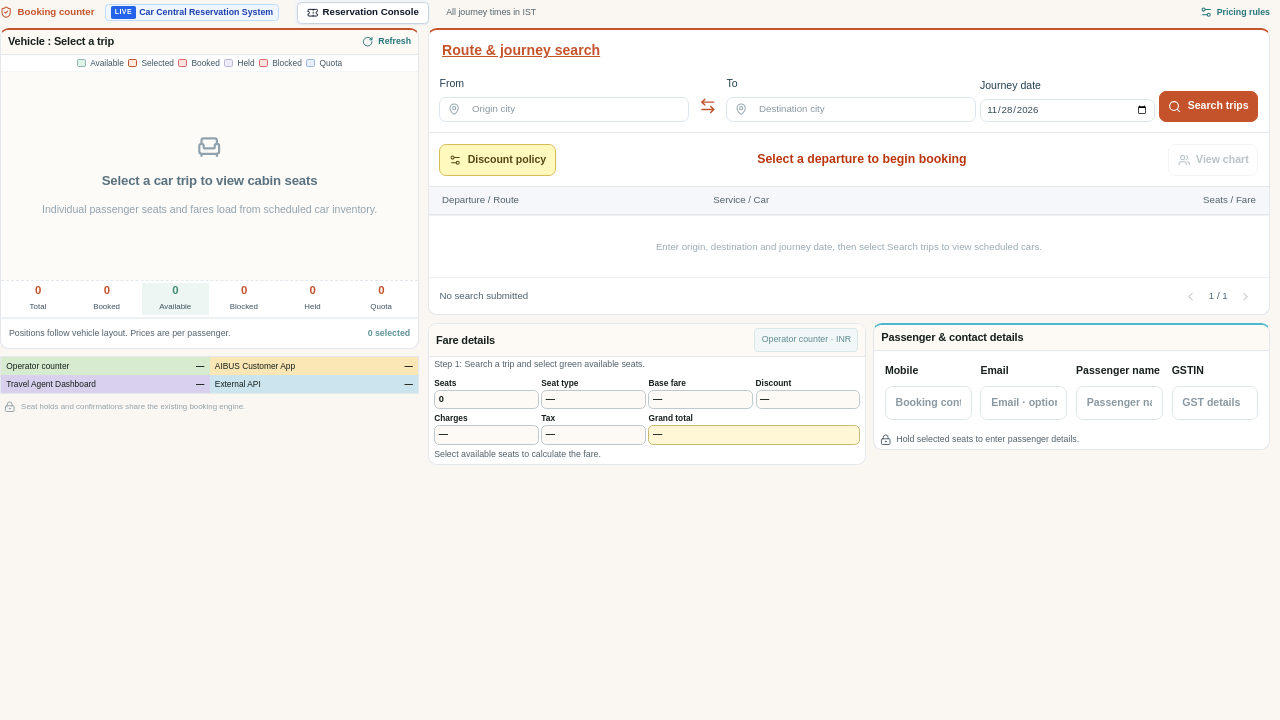
Booking Counter › saves trip amenities with the selected departure version
Type "Pune" into the dropdown named "Counter from". click: (574, 109)
box: x1=467 y1=98 x2=681 y2=121
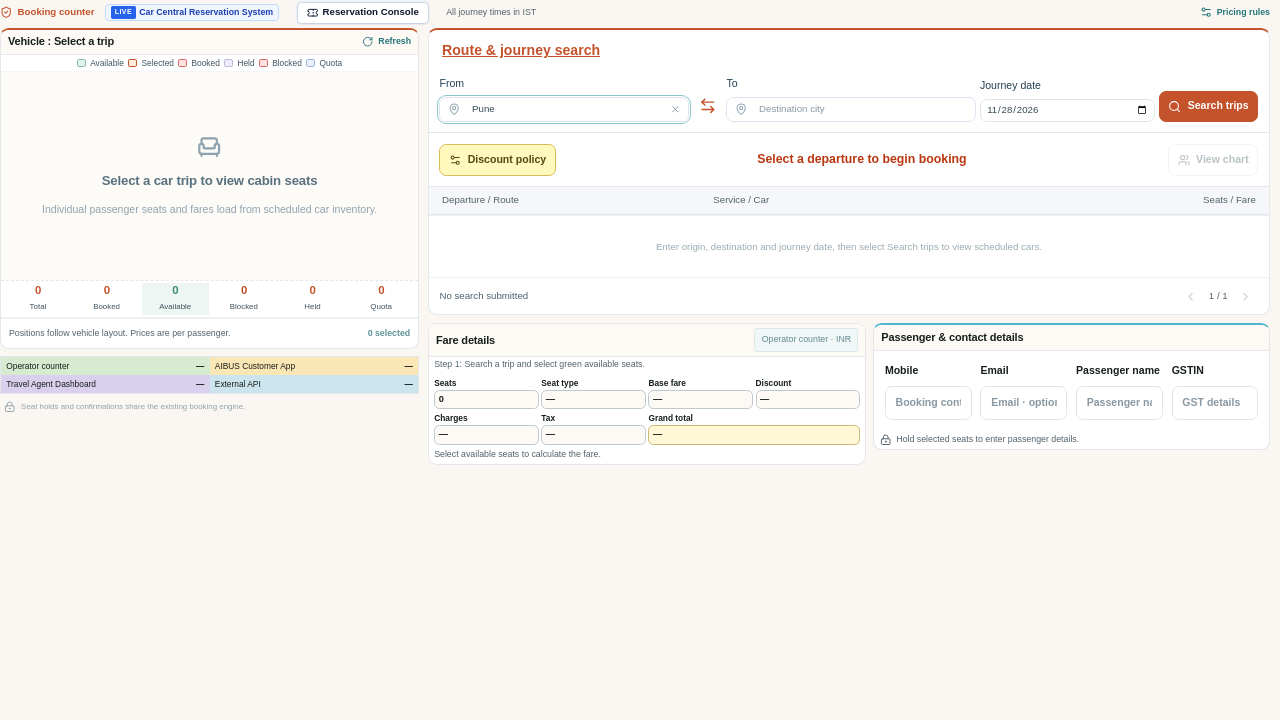
Type "Mumbai" into the dropdown named "Counter to". click: (861, 109)
box: x1=754 y1=98 x2=968 y2=121
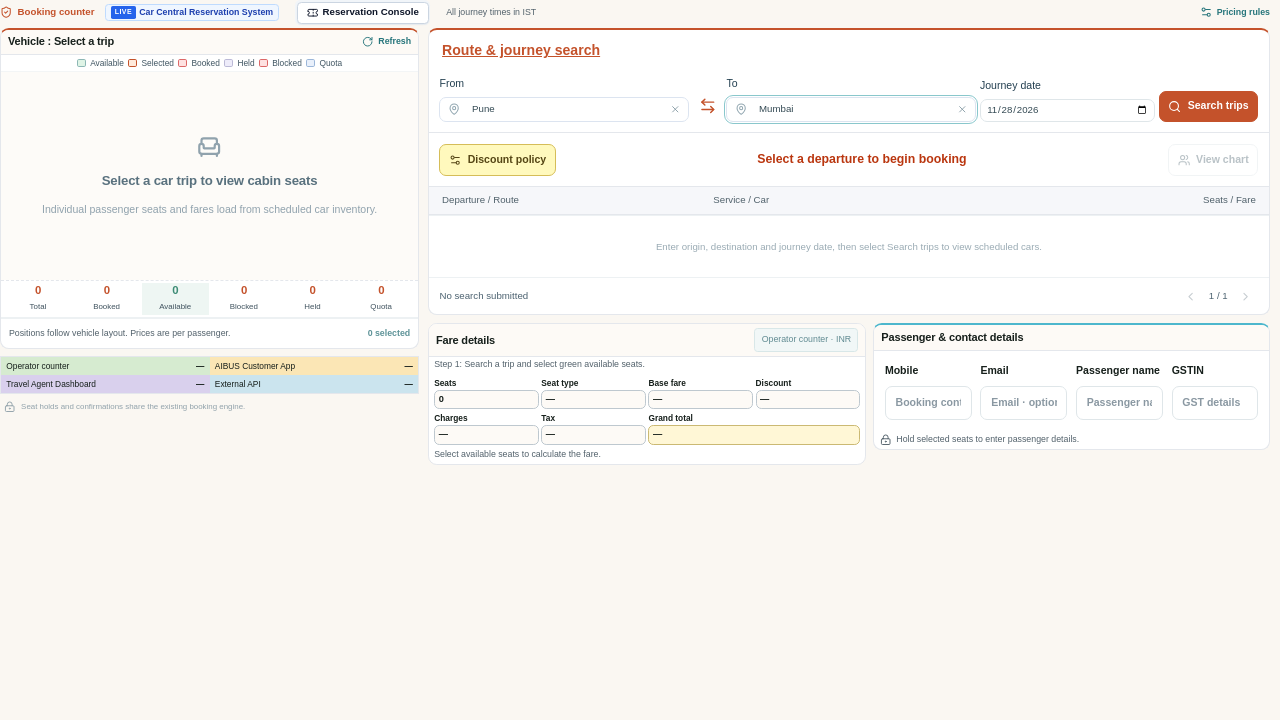
Click the button "Search trips". click: (1208, 106)
box: x1=1158 y1=91 x2=1258 y2=122
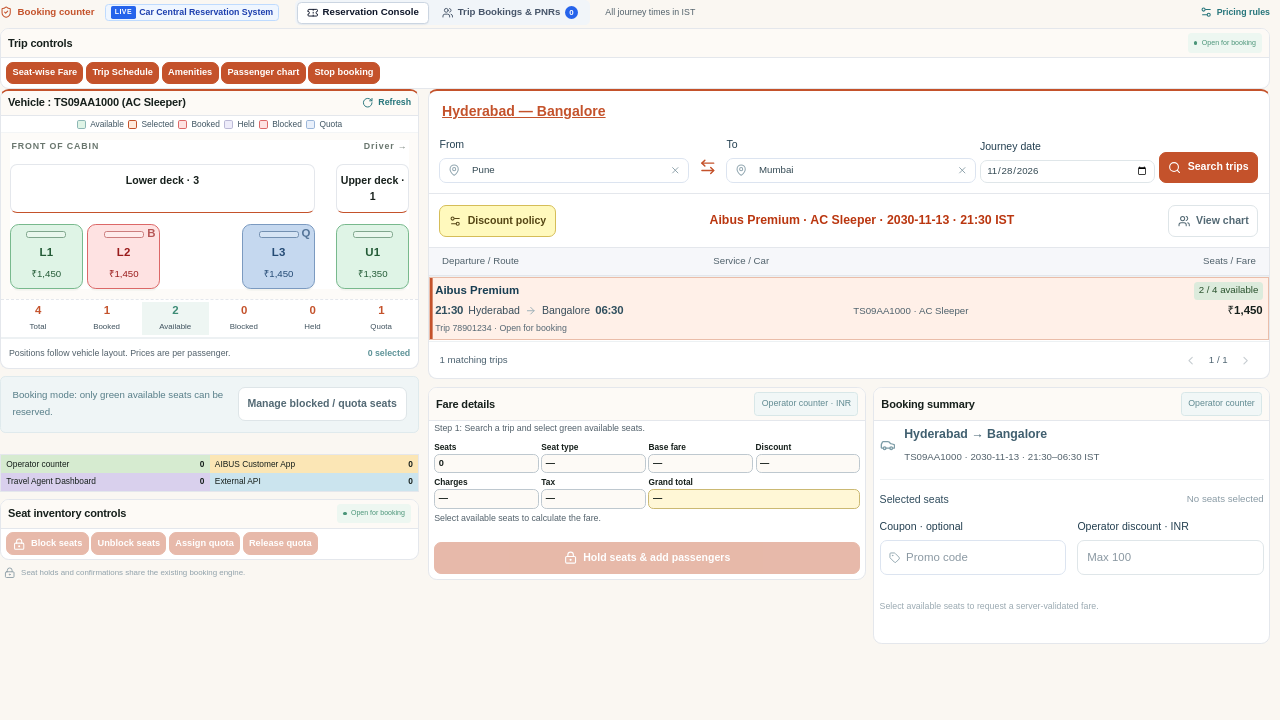
Click the button "Amenities". click: (190, 73)
box: x1=162 y1=62 x2=218 y2=84
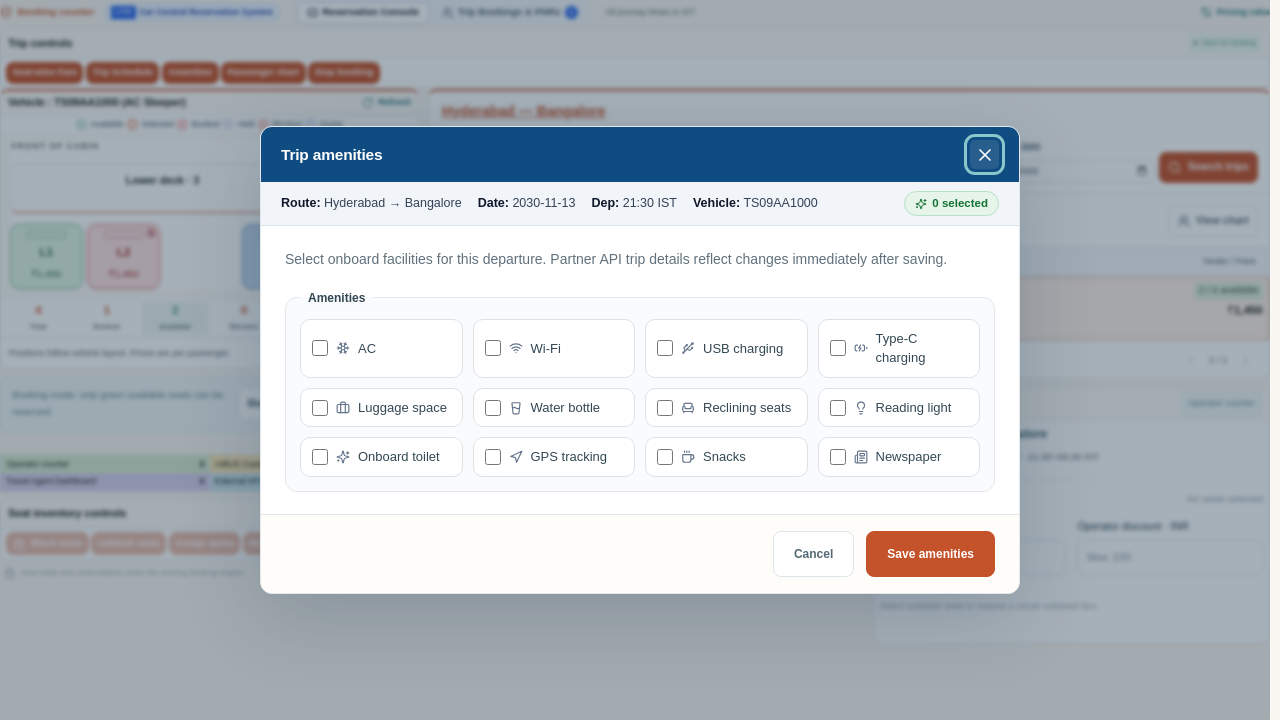
Click the checkbox labelled "Wi-Fi". click: (492, 348)
box: x1=484 y1=340 x2=500 y2=356
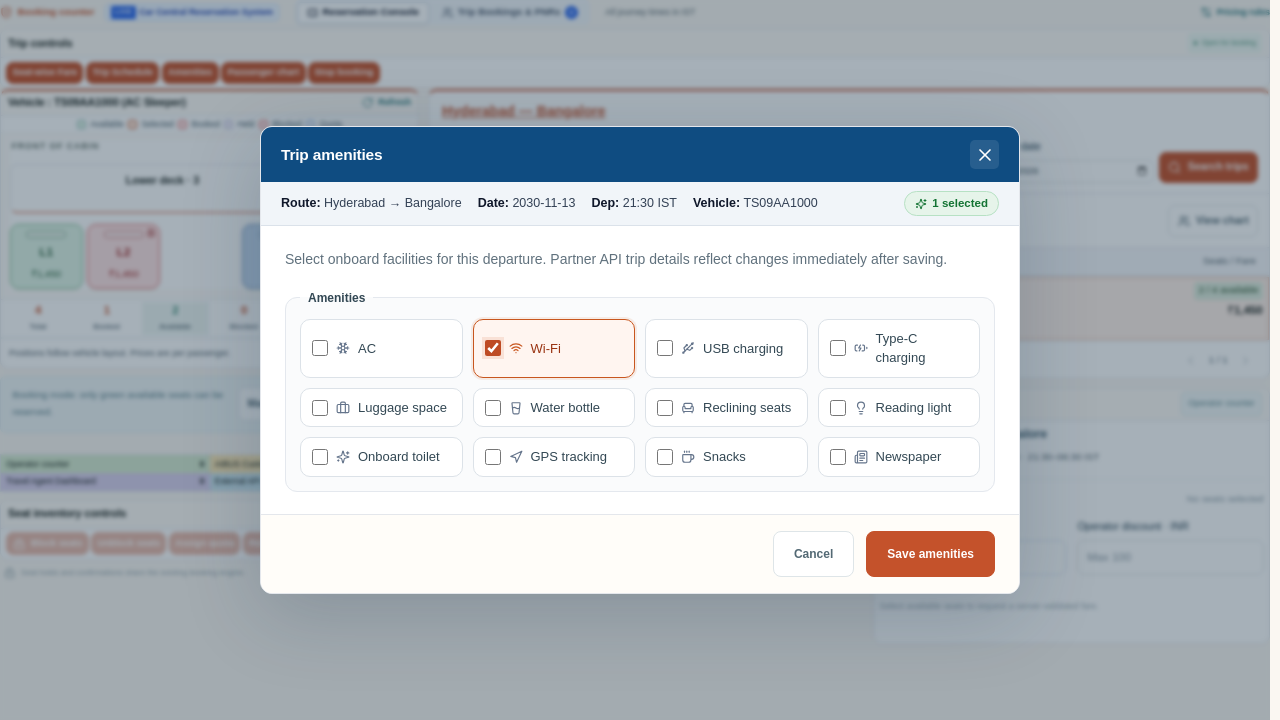
Click the button "Save amenities". click: (931, 554)
box: x1=866 y1=531 x2=995 y2=577
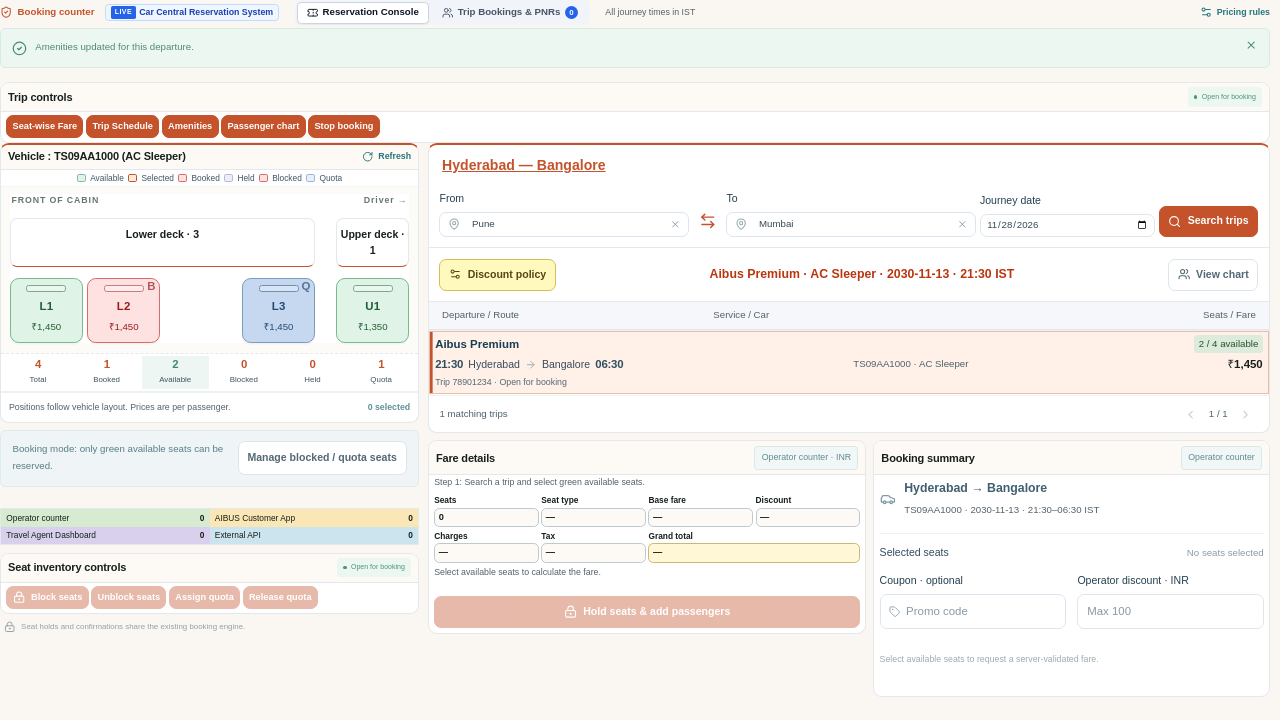
Now the text "Amenities updated for this departure." is shown, box x1=0 y1=28 x2=1270 y2=68
